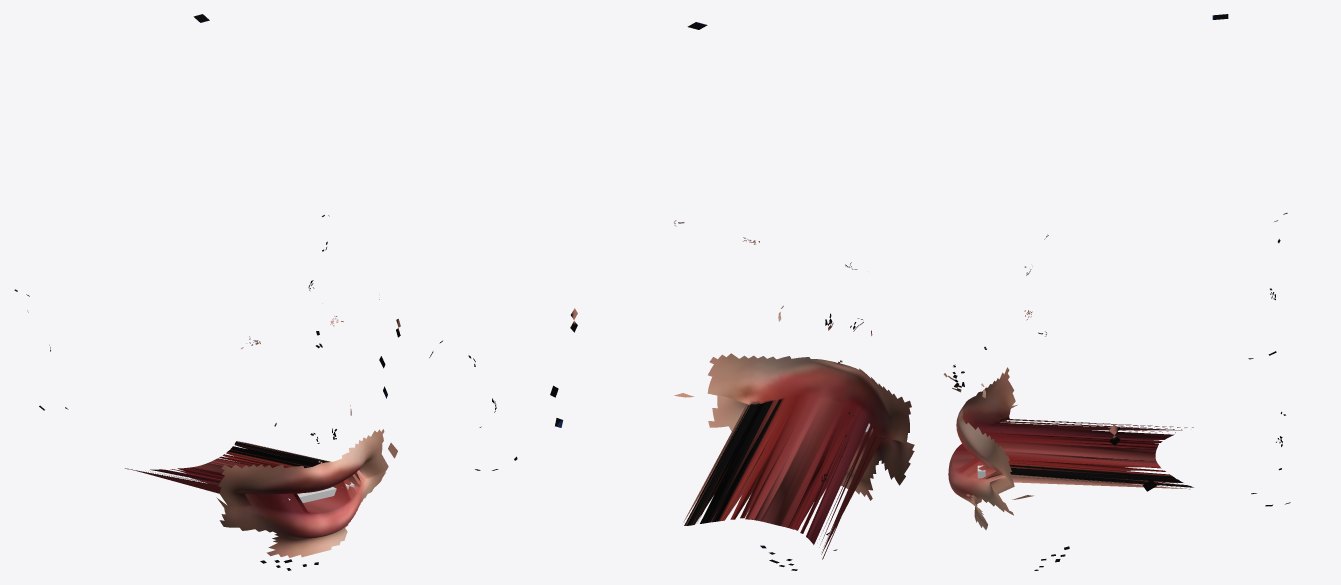
The picture shows the model from 3 angles, left to right: view 1: azimuth 30°, elevation 25°; view 2: azimuth 150°, elevation 25°; view 3: azimuth 270°, elevation 25°; orthographic projection. The views are drawn at different scales.
Visible parts, largest first — view 1: FBHead; view 2: FBHead; view 3: FBHead.
Part boxes in pixels (<box>): FBHead: <box>14,14,400,570</box>; FBHead: <box>429,22,914,570</box>; FBHead: <box>943,14,1290,570</box>.
Size of the model in its own units: 0.6907 by 1 by 0.6431.
2 materials, 1 textured.
